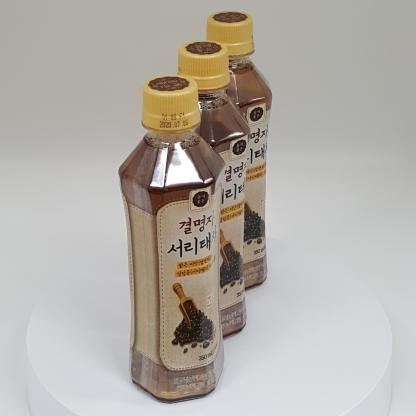----------350ML: (118, 75, 225, 403)
